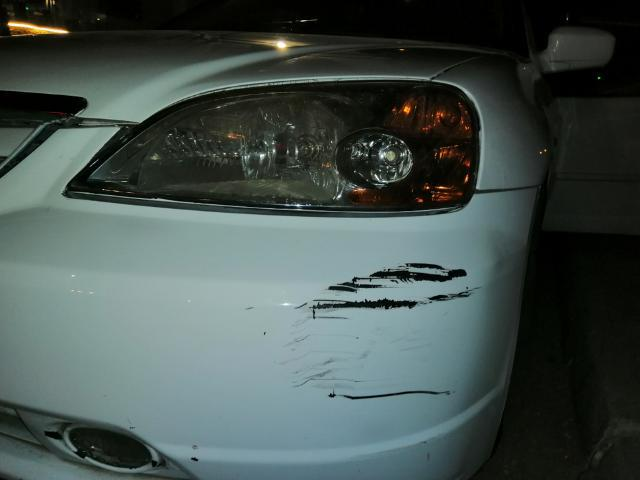Bumper: (11, 208, 640, 467)
